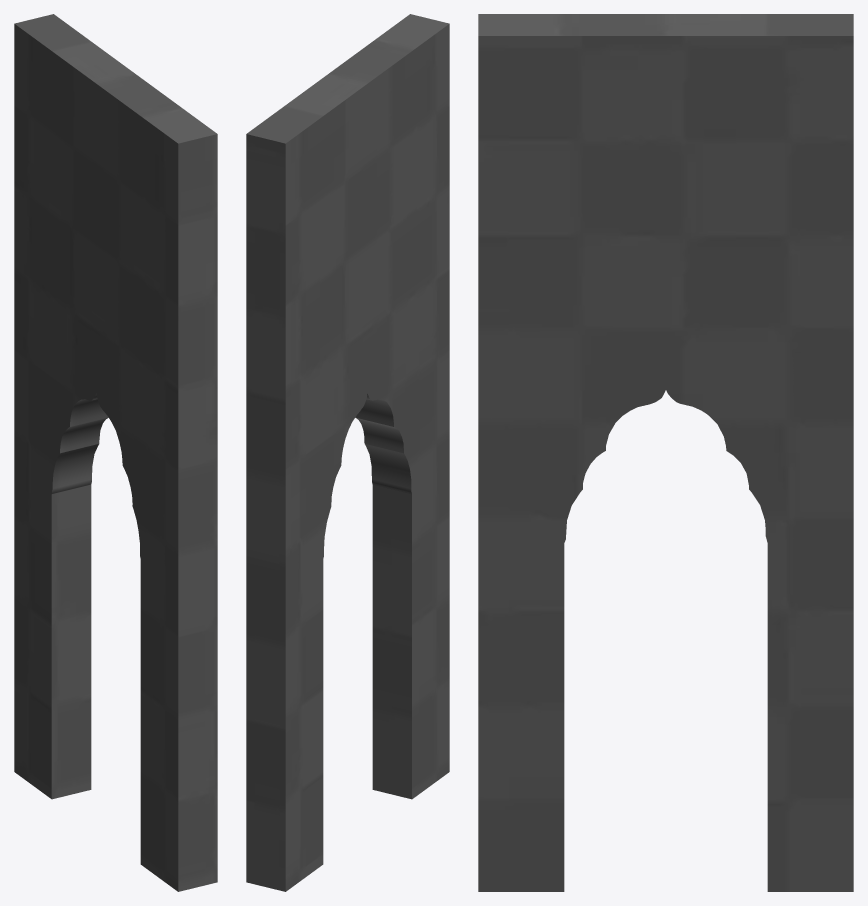
File: SM_QiangTi03_b793fa.glb
The picture shows the model from 3 angles, left to right: view 1: azimuth 30°, elevation 25°; view 2: azimuth 150°, elevation 25°; view 3: azimuth 270°, elevation 25°; orthographic projection. The views are drawn at different scales.
Parts seen in each view (by area): view 1: SM_QiangTi03; view 2: SM_QiangTi03; view 3: SM_QiangTi03.
Boxes of the visible parts, <box> form: SM_QiangTi03: <box>14,14,217,891</box>; SM_QiangTi03: <box>246,14,449,891</box>; SM_QiangTi03: <box>478,14,853,891</box>.
Size of the model in its own units: 0.3122 by 5.57 by 2.21.
1 material, 1 textured.
